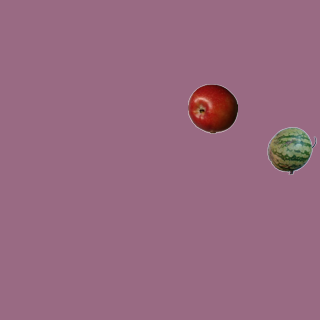Apple Braeburn: (187, 83, 237, 133)
Watermelon: (266, 125, 316, 175)
